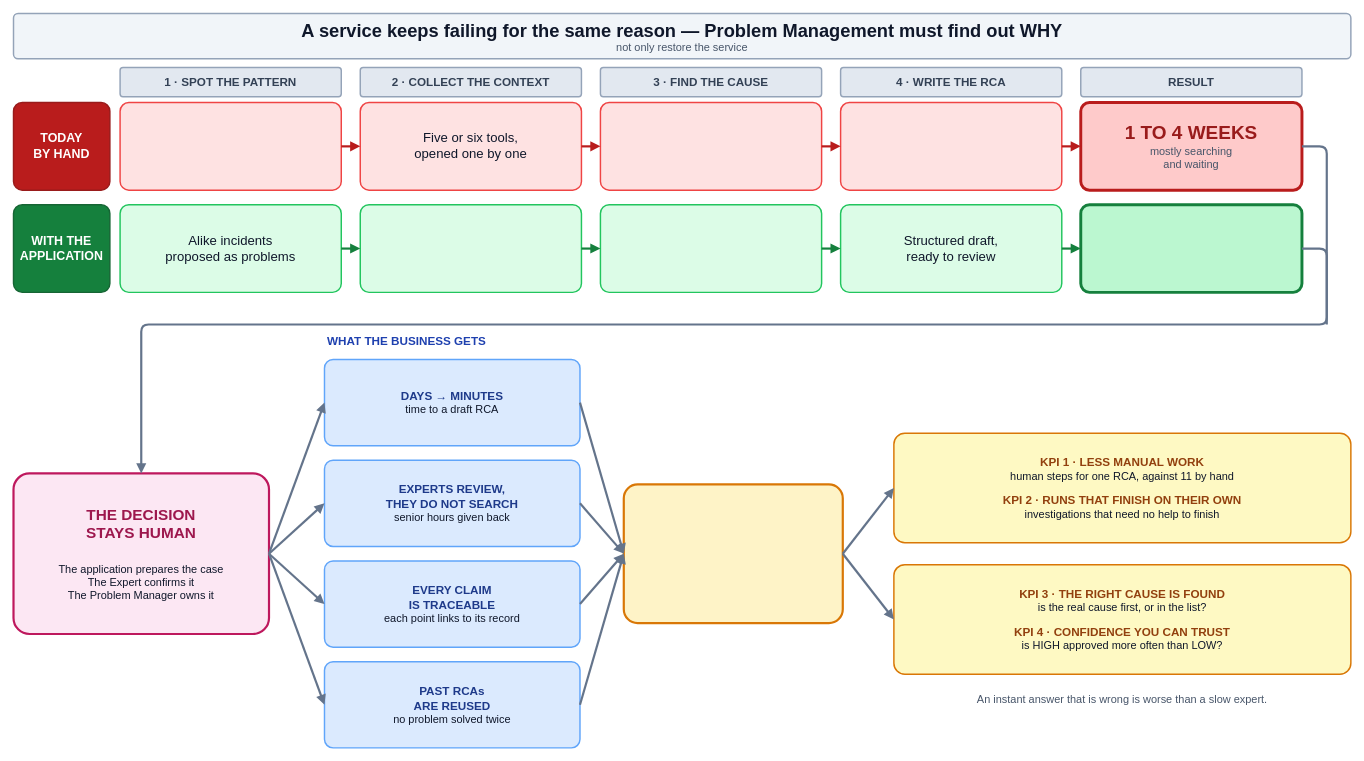
This 1364x761 diagram has some shape labels left out. Each missing label, with the box of its shape:
Four sources queried in one run: (359, 204, 582, 293)
HOW WE PROVE IT four measures, always read together: (622, 483, 844, 624)
Memory, then trial and error: (599, 101, 822, 191)
MINUTES the expert starts from a prepared case: (1079, 203, 1303, 293)
Two hypotheses, each with its evidence: (599, 204, 822, 293)
Weekly reports read by hand: (119, 101, 342, 191)
Written by hand, often incomplete: (840, 101, 1062, 191)
